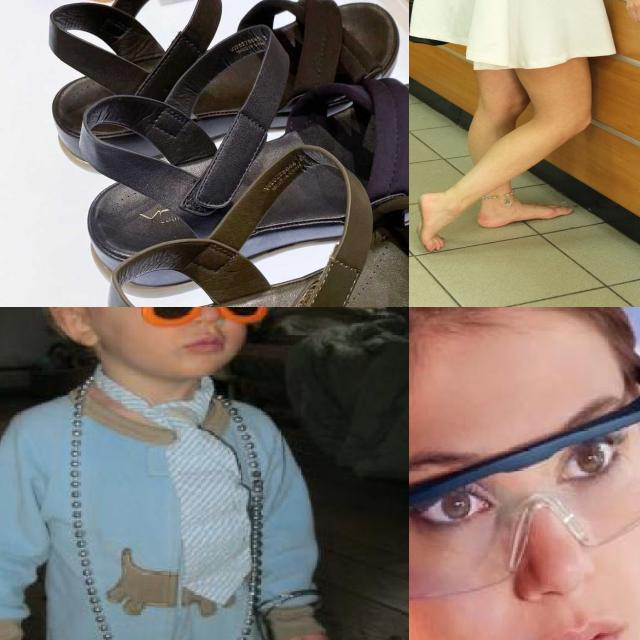Barefoots: (477, 203, 572, 228), (416, 193, 446, 251)
Sandals: (91, 145, 409, 307)
face_nomask: (409, 422, 640, 640), (125, 307, 259, 360)
glasses: (409, 363, 640, 605), (75, 307, 282, 332)
hand_noglove: (270, 628, 336, 640)
head_nohelmet: (409, 307, 624, 396)
person: (0, 307, 347, 640)
